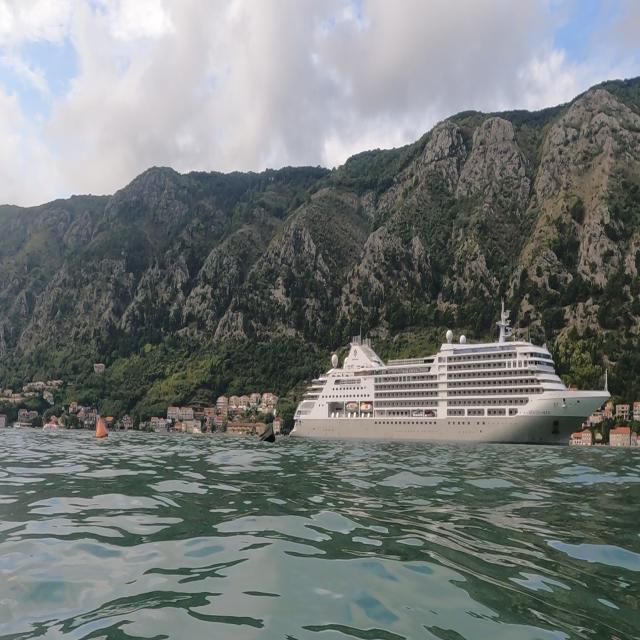boat: (287, 295, 612, 447)
buoy: (92, 414, 112, 456), (252, 420, 282, 447)
